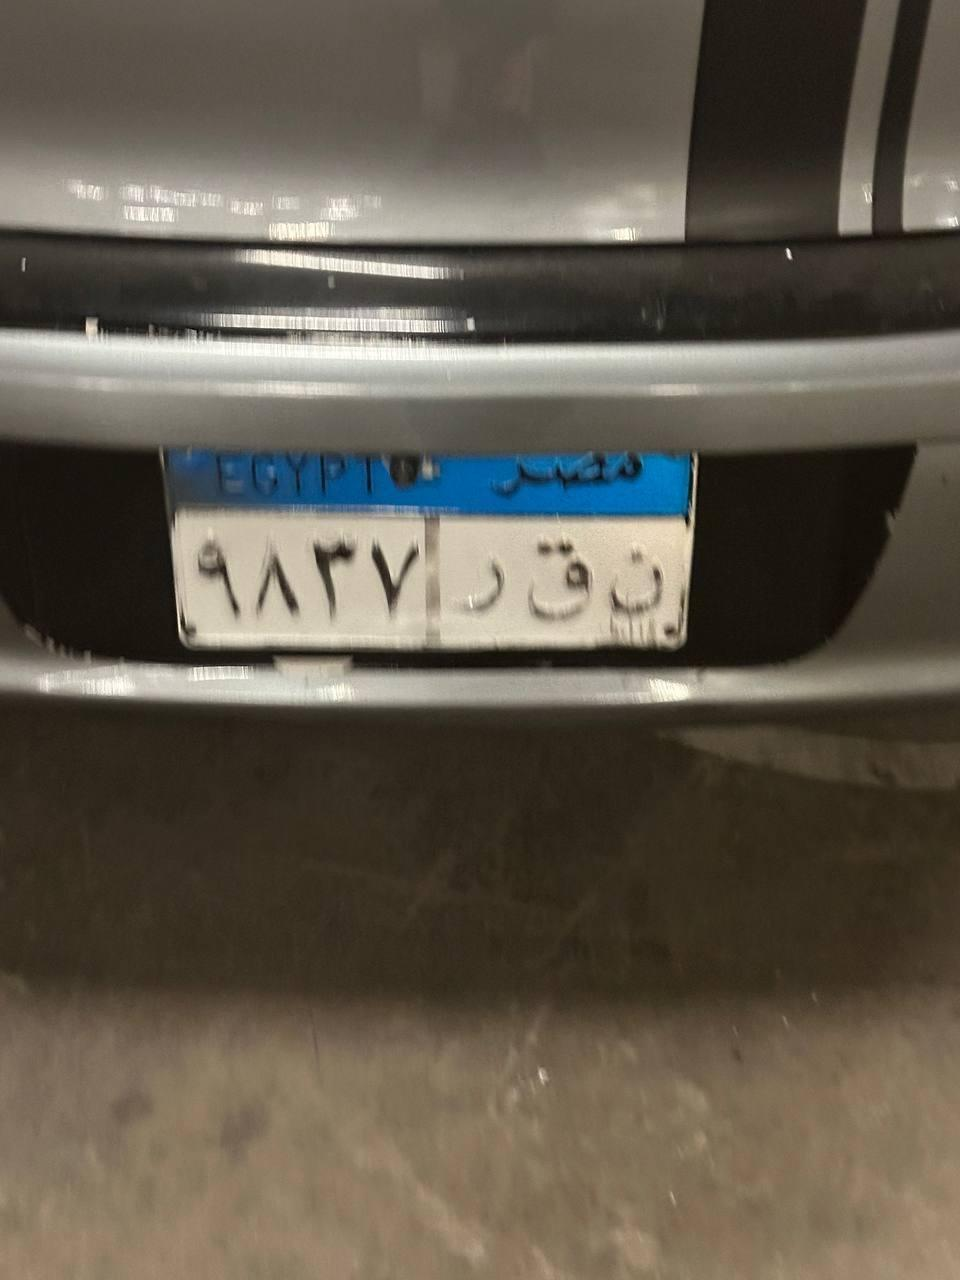3: (303, 520, 357, 618)
7: (360, 536, 420, 608)
8: (246, 538, 306, 614)
9: (180, 526, 236, 640)
License Plate: (156, 423, 702, 676)
Noon: (606, 528, 678, 632)
Q: (516, 530, 603, 634)
R: (455, 550, 509, 618)
